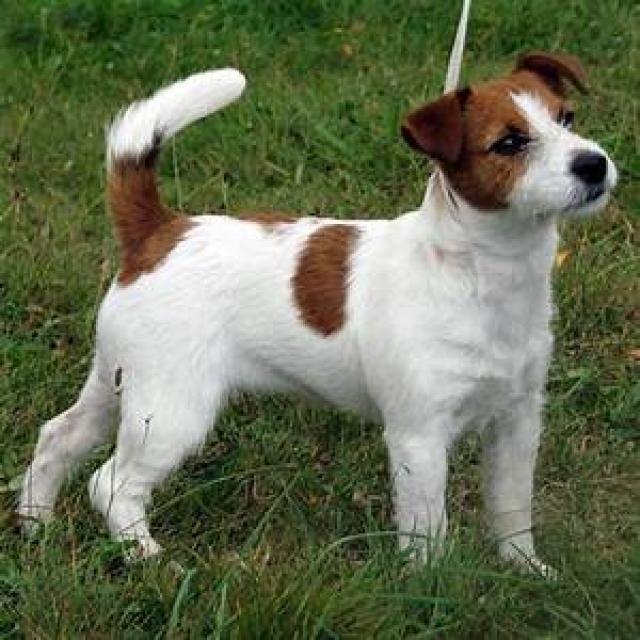animal: (12, 49, 618, 582)
